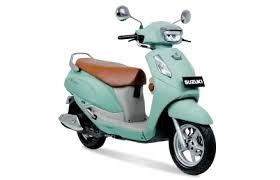motorcycle: (55, 1, 222, 180)
